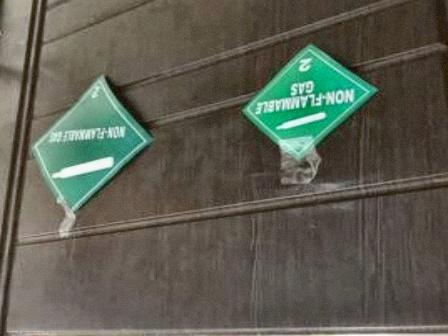non-flammable-gas: (28, 71, 155, 211), (232, 41, 377, 157)
